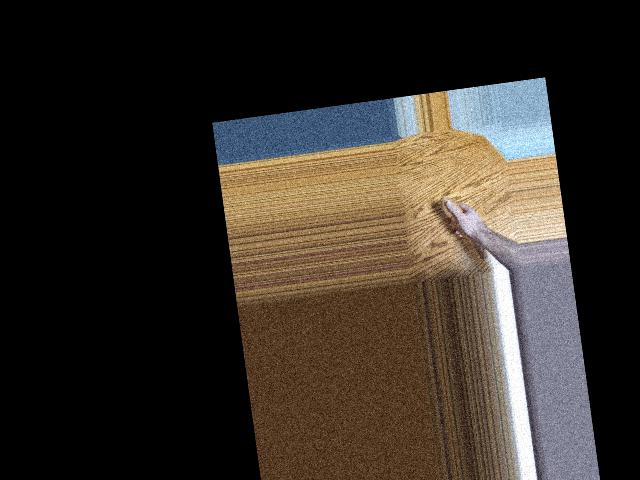sweet_potato: (438, 190, 490, 275)
